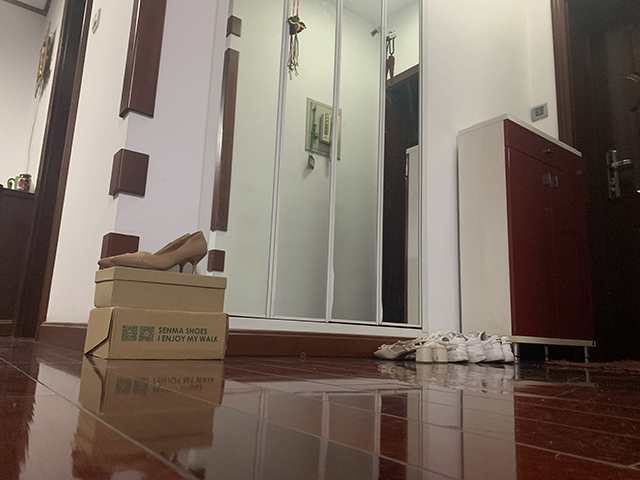cabinet: (457, 111, 596, 364)
carpet: (550, 356, 640, 376)
